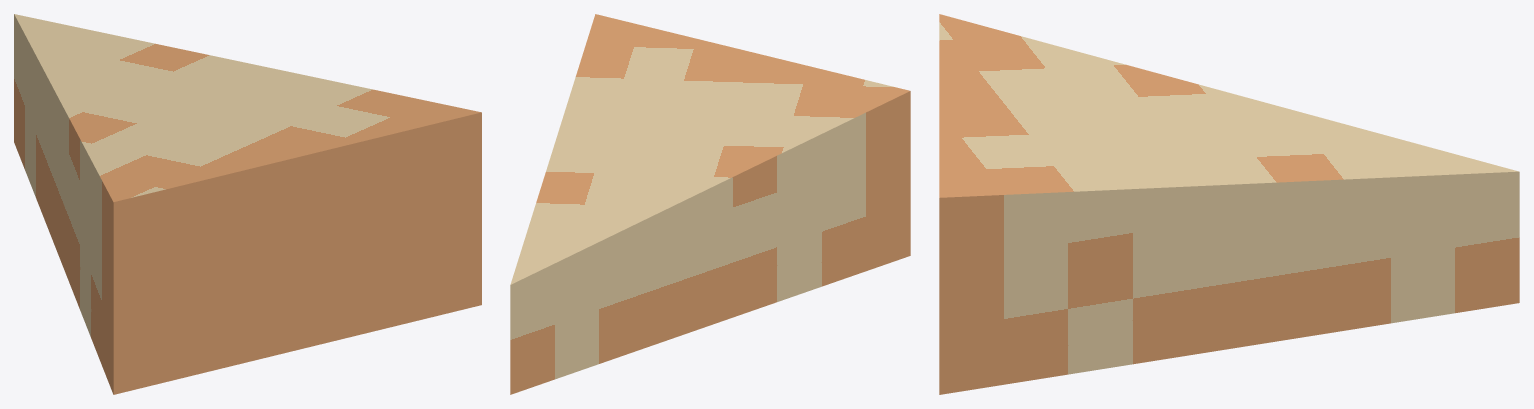
File: Cheese.gltf
3 views of the same model, side by side, from view 1: azimuth 30°, elevation 25°; view 2: azimuth 150°, elevation 25°; view 3: azimuth 270°, elevation 25° (orthographic). The views are drawn at different scales.
Visible parts, largest first — view 1: mesh; view 2: mesh; view 3: mesh.
Part boxes in pixels (x1,y1,x2,y2): mesh: [14, 14, 481, 394]; mesh: [510, 14, 910, 394]; mesh: [939, 14, 1519, 394].
Bounding box in the file's own units: 0.375 × 0.1875 × 0.5.
Materials: 1 (1 with a texture image).
